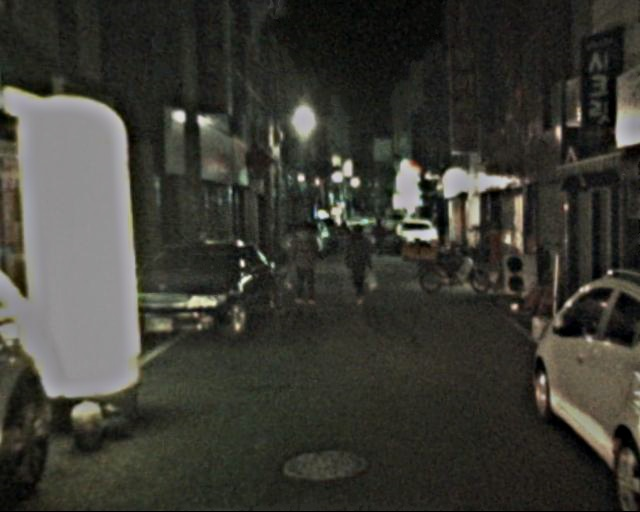person: (286, 217, 326, 311), (340, 221, 376, 308), (371, 215, 391, 263)
